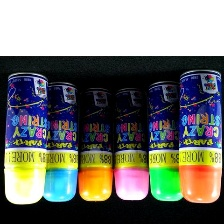aerosol_cans: (2, 68, 50, 208), (175, 65, 223, 205), (142, 79, 188, 206), (36, 77, 81, 204), (112, 83, 154, 204), (76, 85, 117, 203)
